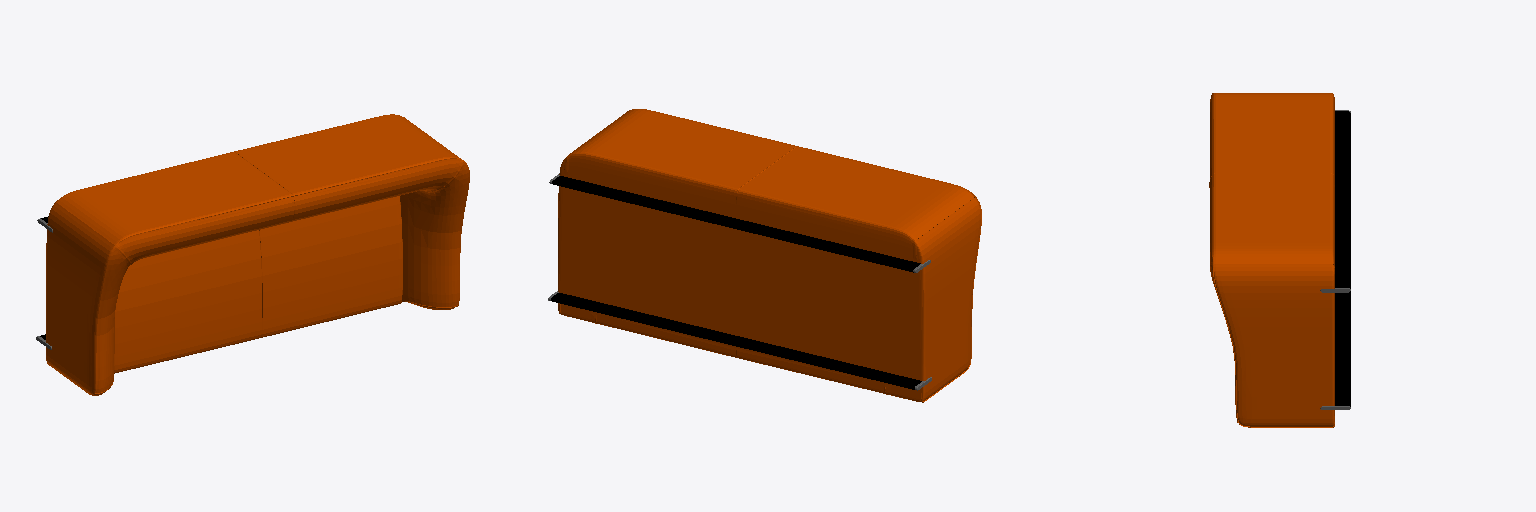
Rendered from ligne_roset_snowdonia_large_settee_main_03_obj.obj.
The picture shows the model from 3 angles: view 1: azimuth 30°, elevation 25°; view 2: azimuth 150°, elevation 25°; view 3: azimuth 270°, elevation 25°; orthographic projection.
Parts seen in each view (by area): view 1: ligne_roset_snowdonia_large_settee; view 2: ligne_roset_snowdonia_large_settee; view 3: ligne_roset_snowdonia_large_settee.
Part boxes in pixels (left/top/right/bottom): ligne_roset_snowdonia_large_settee: left=36, top=114, right=469, bottom=395; ligne_roset_snowdonia_large_settee: left=548, top=109, right=981, bottom=402; ligne_roset_snowdonia_large_settee: left=1209, top=93, right=1350, bottom=427.
Size of the model in its own units: 211 by 92.78 by 70.02.